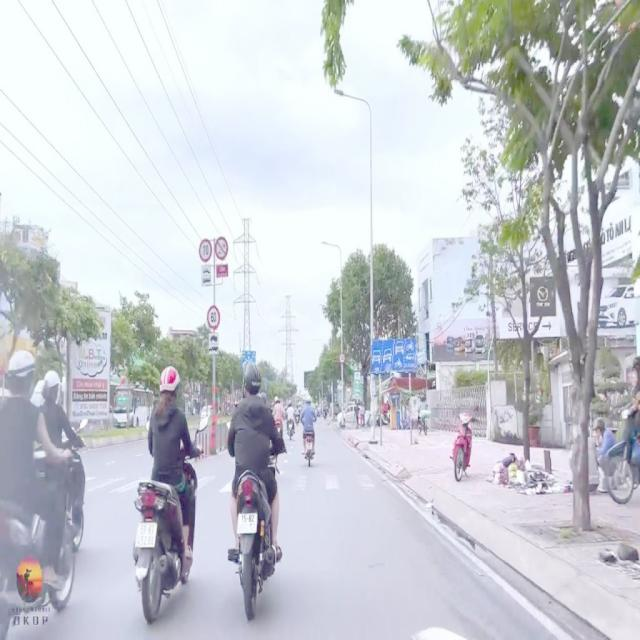cam_xe_2_banh_va_xe_3_banh_co_dong_co: (215, 236, 229, 261)
khac: (199, 238, 212, 263), (201, 265, 211, 277), (209, 344, 219, 355), (209, 334, 219, 344), (202, 276, 211, 287)
lan_duong_cho_tung_xe_theo_vach_ke_duong: (371, 339, 418, 374)
toc_do_toi_da_60: (207, 305, 220, 330)
